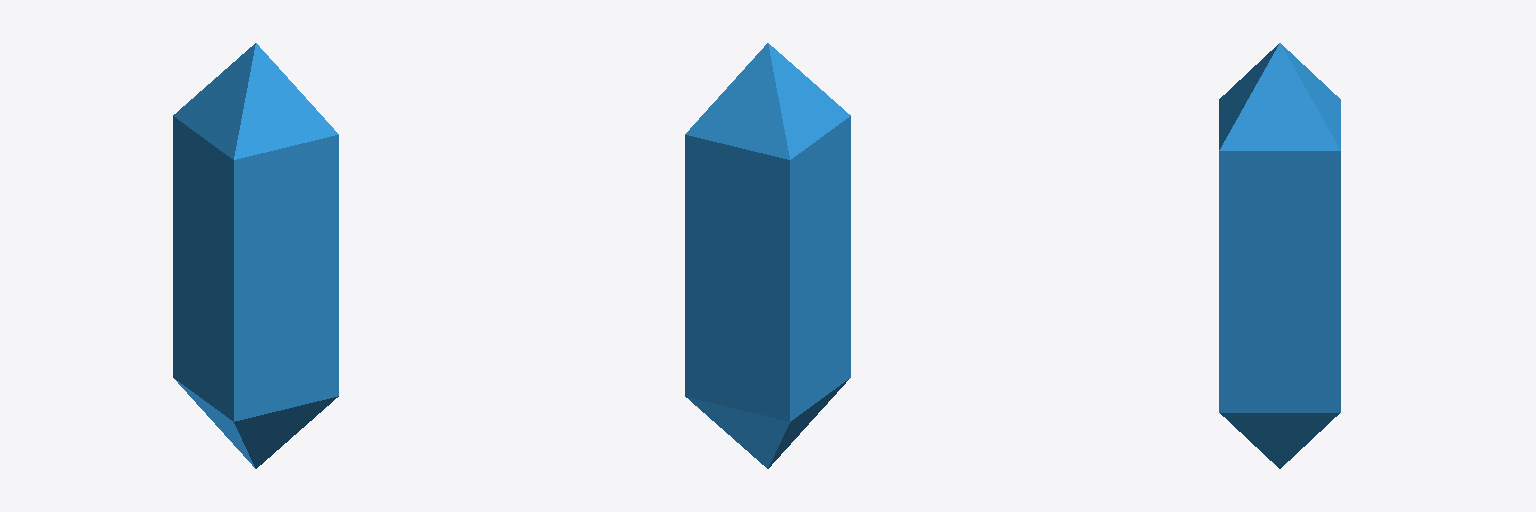
The model's file is Cystal.obj.
3 views of the same model, side by side, from view 1: azimuth 30°, elevation 25°; view 2: azimuth 150°, elevation 25°; view 3: azimuth 270°, elevation 25° (orthographic).
Visible parts, largest first — view 1: Cube, Pyramid; view 2: Cube, Pyramid; view 3: Cube, Pyramid.
Part boxes in pixels (bbox=[...]): Cube: bbox=[173, 116, 338, 421]; Pyramid: bbox=[173, 43, 338, 468]; Cube: bbox=[685, 116, 850, 421]; Pyramid: bbox=[685, 43, 850, 468]; Cube: bbox=[1219, 151, 1340, 412]; Pyramid: bbox=[1219, 43, 1340, 468].
Size of the model in its own units: 4 by 15.5 by 4.